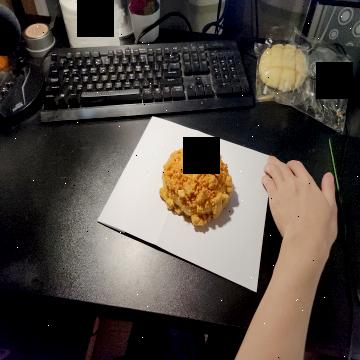soboru_bread: (157, 143, 234, 232)
